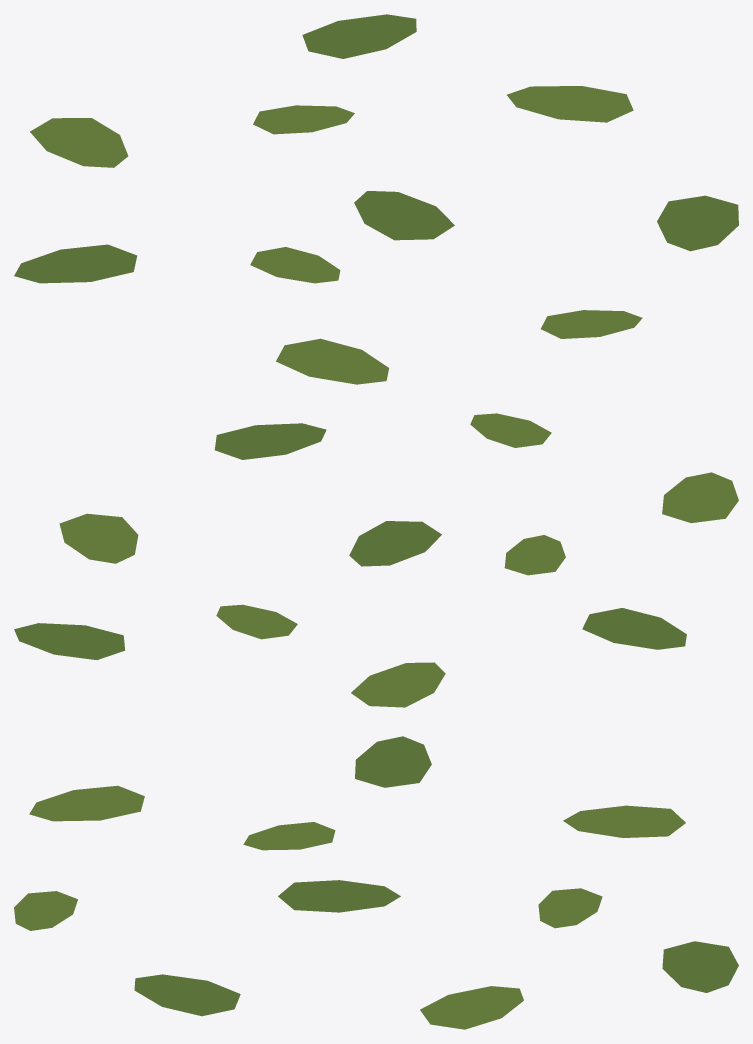
File: wild_pz_rosette.glb
3 views of the same model, one above another, from view 1: azimuth 30°, elevation 25°; view 2: azimuth 150°, elevation 25°; view 3: azimuth 270°, elevation 25° (orthographic). The views are drawn at different scales.
Parts seen in each view (by area): view 1: pg_rosette; view 2: pg_rosette; view 3: pg_rosette.
Boxes of the visible parts, bbox=[...] form: pg_rosette: bbox=[14, 14, 738, 384]; pg_rosette: bbox=[14, 413, 738, 707]; pg_rosette: bbox=[14, 736, 738, 1029].
Size of the model in its own units: 0.7543 by 5.96e-08 by 0.7876.
